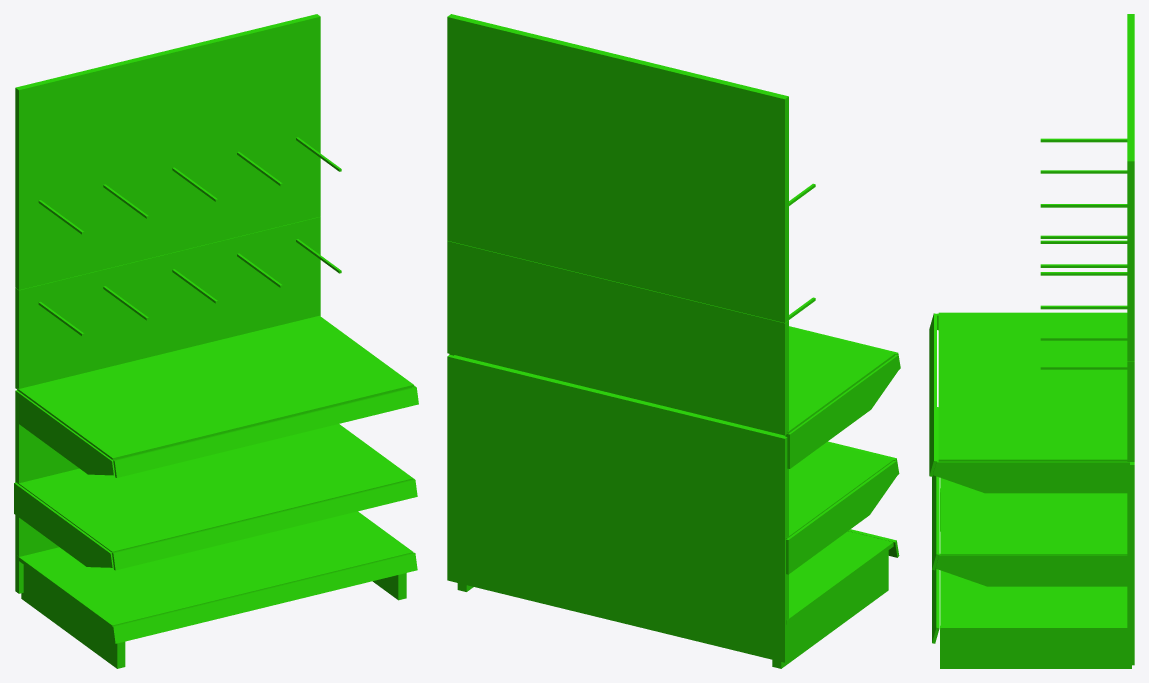
Rendered from Shop_Shelf_A_02_Lod0.fbx.
3 renders of one model, left to right at view 1: azimuth 30°, elevation 25°; view 2: azimuth 150°, elevation 25°; view 3: azimuth 270°, elevation 25°, orthographic. The views are drawn at different scales.
Visible parts, largest first — view 1: Shop_Shelf_A_02_Lod0; view 2: Shop_Shelf_A_02_Lod0; view 3: Shop_Shelf_A_02_Lod0.
Part boxes in pixels (x1,y1,x2,y2): Shop_Shelf_A_02_Lod0: [14, 14, 418, 668]; Shop_Shelf_A_02_Lod0: [447, 14, 900, 668]; Shop_Shelf_A_02_Lod0: [929, 14, 1134, 668].
Bounding box in the file's own units: 135 × 217 × 78.91.
